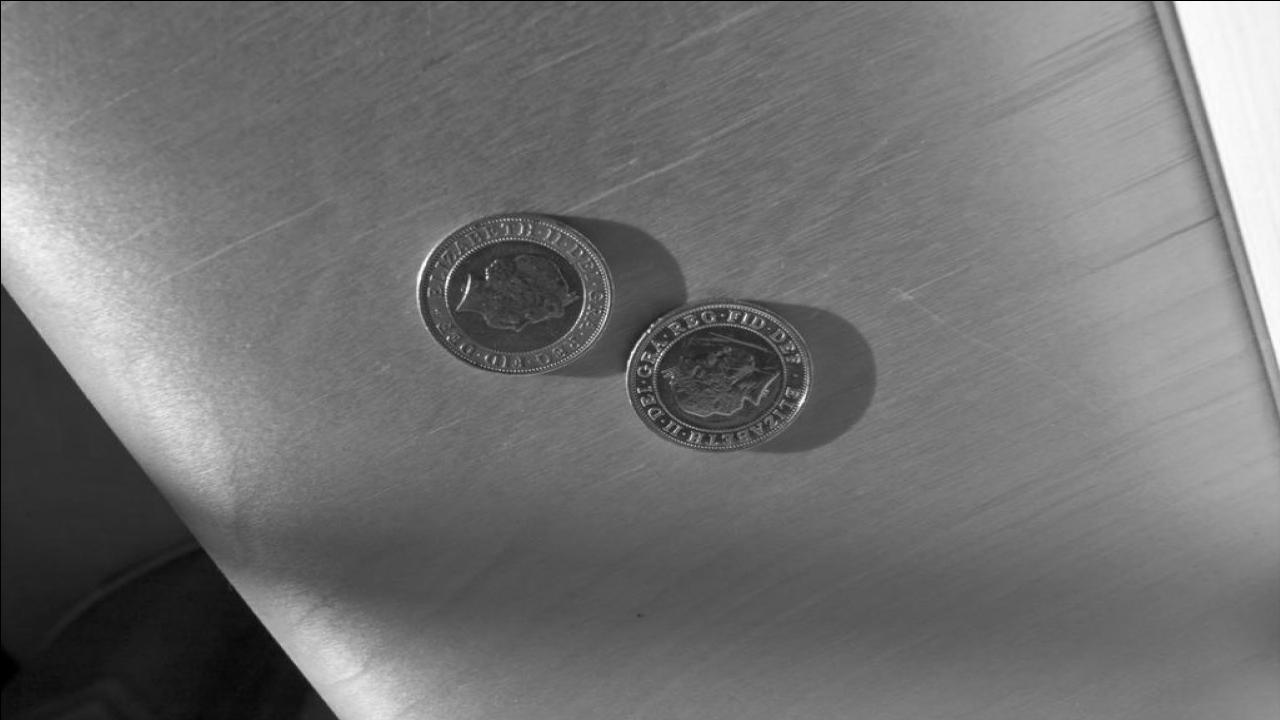coin: (413, 210, 618, 378), (621, 302, 809, 452)
